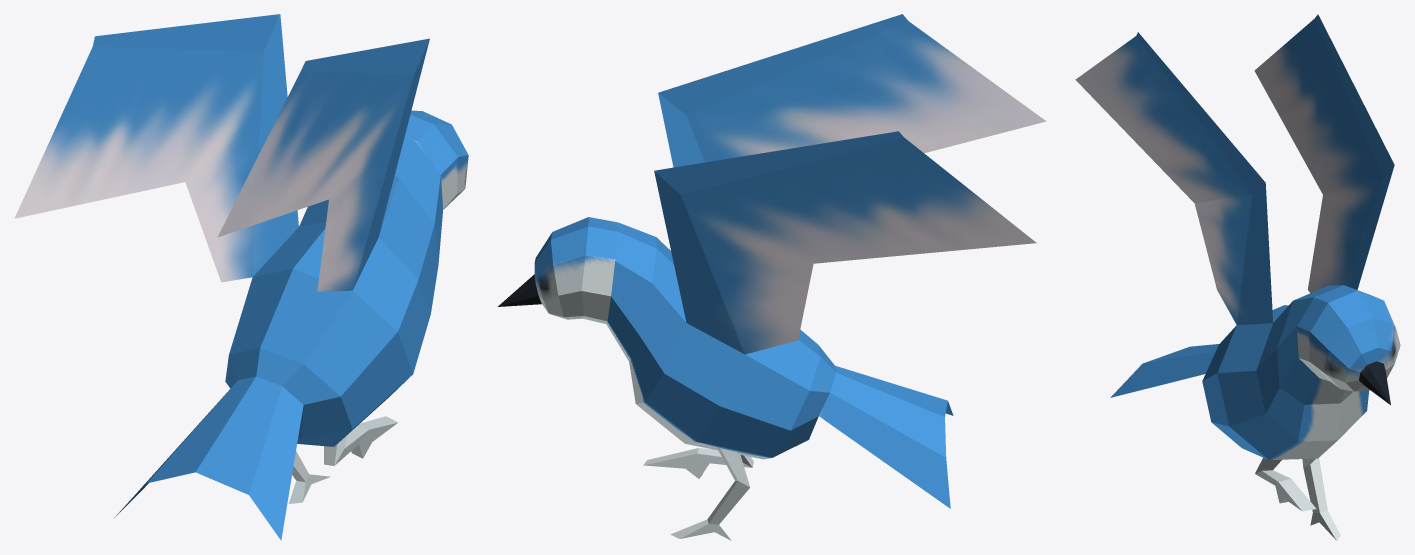
The model's file is bird.gltf.
The picture shows the model from 3 angles, left to right: view 1: azimuth 30°, elevation 25°; view 2: azimuth 150°, elevation 25°; view 3: azimuth 270°, elevation 25°; orthographic projection. The views are drawn at different scales.
Parts seen in each view (by area): view 1: bird; view 2: bird; view 3: bird.
Part boxes in pixels (x1,y1,x2,y2): bird: (14, 14, 468, 540); bird: (498, 14, 1046, 540); bird: (1075, 14, 1400, 540).
Bounding box in the file's own units: 0.8907 × 0.8701 × 0.5663.
1 material, 1 textured.
